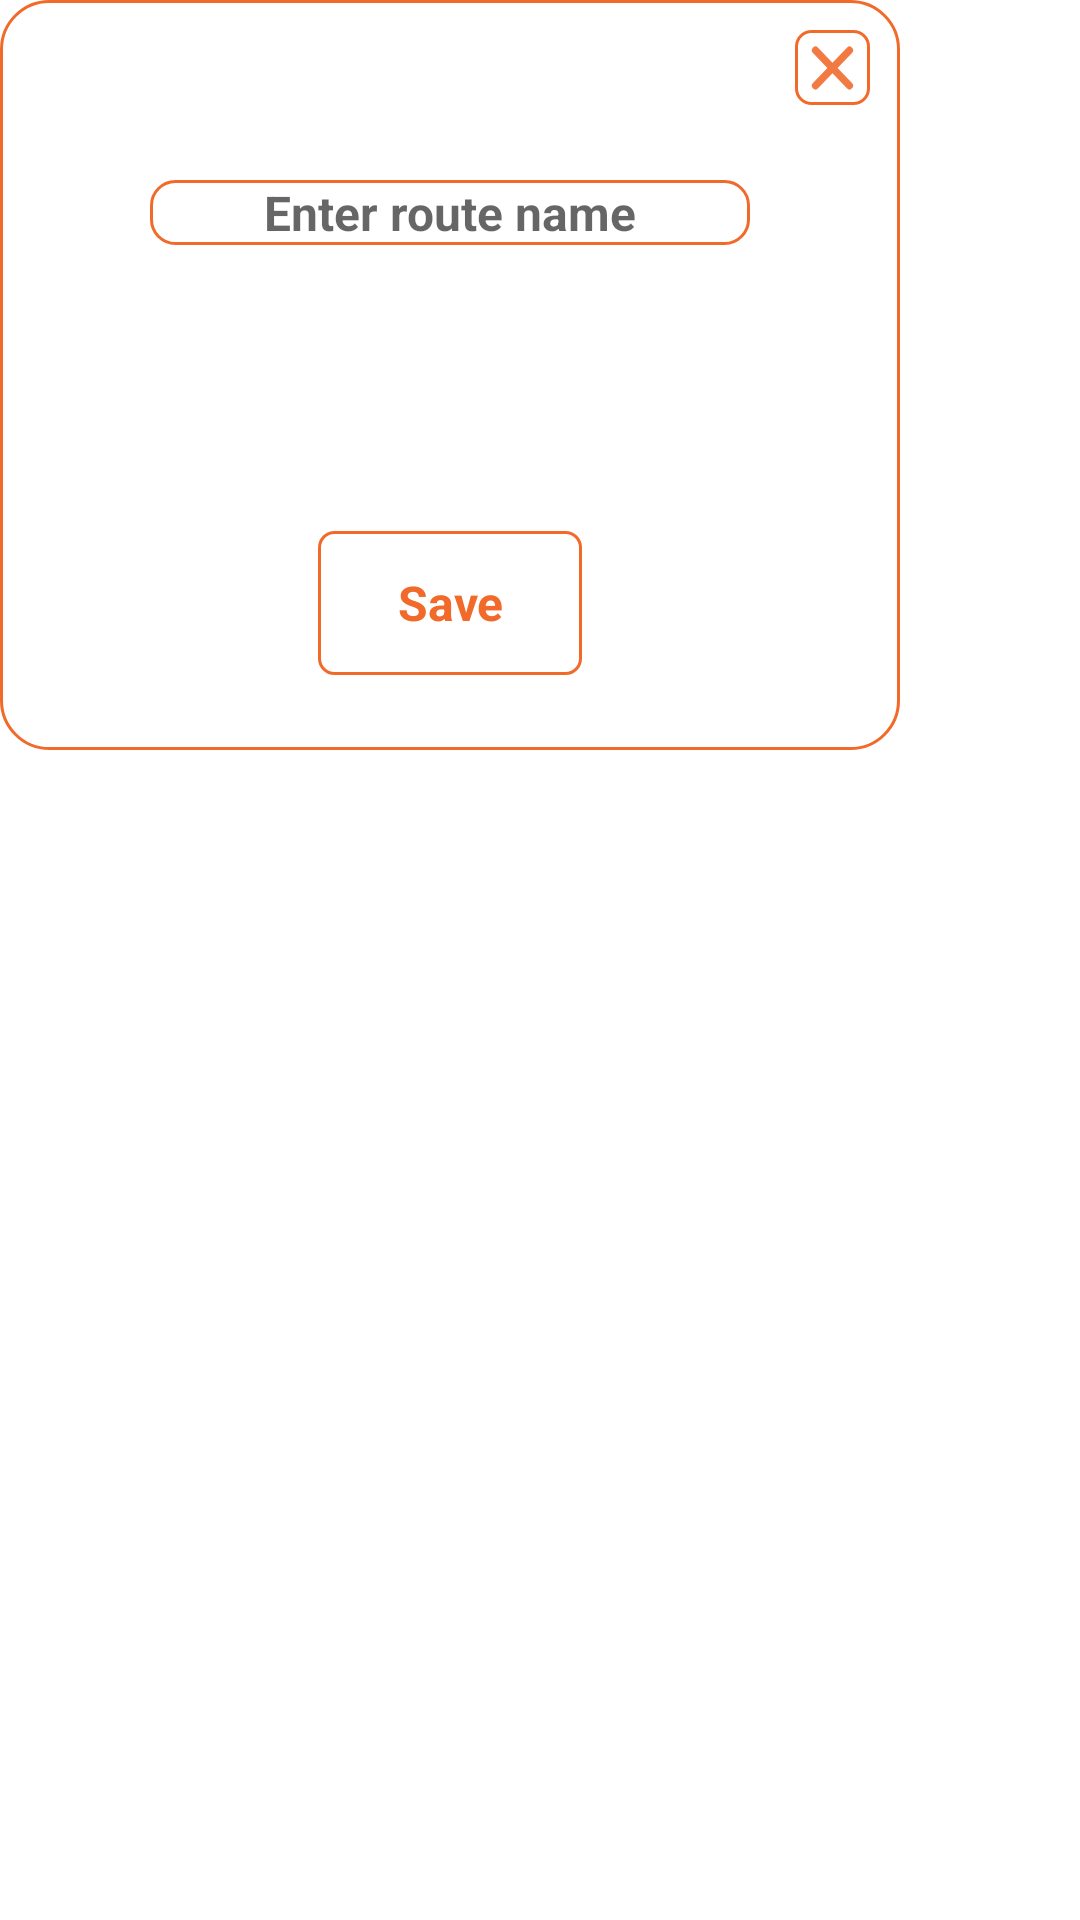

Named icons in this screenshot (1080px x 1920px) and their bounding boxes, (x1, y1, x2, y2):
close: (795, 30, 870, 105)
